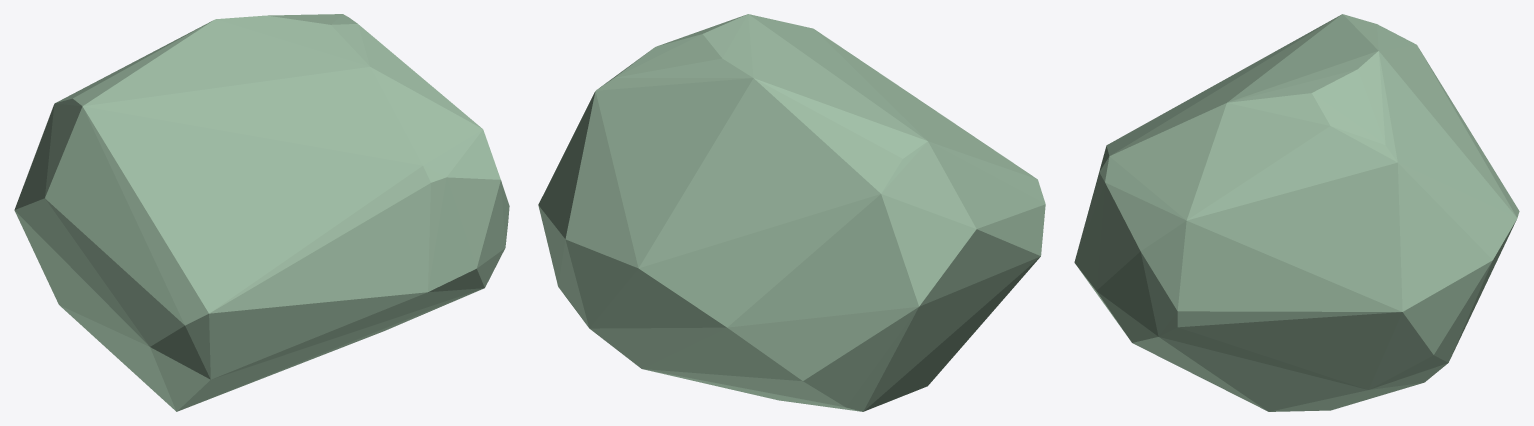
The model's file is food_produce_kiwi_a07.glb.
3 views of the same model, side by side, from view 1: azimuth 30°, elevation 25°; view 2: azimuth 150°, elevation 25°; view 3: azimuth 270°, elevation 25° (orthographic). The views are drawn at different scales.
Parts seen in each view (by area): view 1: geometry_0; view 2: geometry_0; view 3: geometry_0.
Part boxes in pixels (x1=…): geometry_0: x1=14, y1=14, x2=509, y2=411; geometry_0: x1=538, y1=14, x2=1045, y2=411; geometry_0: x1=1074, y1=14, x2=1519, y2=411.
Size of the model in its own units: 0.4463 by 0.3599 by 0.4357.
